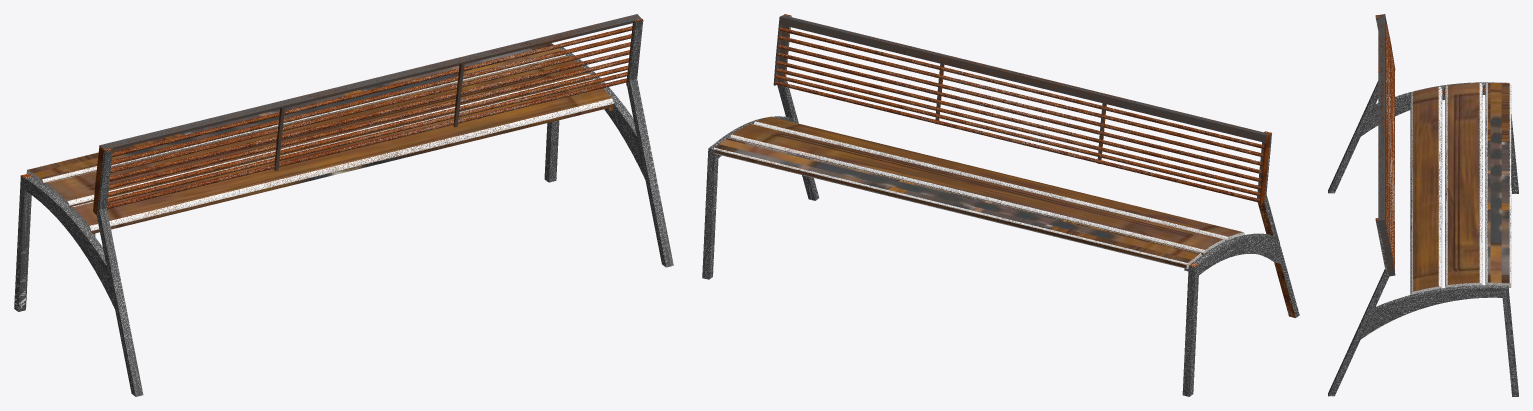
3 views of the same model, side by side, from view 1: azimuth 30°, elevation 25°; view 2: azimuth 150°, elevation 25°; view 3: azimuth 270°, elevation 25° (orthographic). The views are drawn at different scales.
Visible parts, largest first — view 1: mesh12_mesh12-geometry, mesh2_mesh2-geometry, mesh6_mesh6-geometry, mesh3_mesh3-geometry, mesh5_mesh5-geometry, mesh7_mesh7-geometry, mesh4_mesh4-geometry, mesh1_mesh1-geometry; view 2: mesh12_mesh12-geometry, mesh2_mesh2-geometry, mesh3_mesh3-geometry, mesh4_mesh4-geometry, mesh5_mesh5-geometry, mesh7_mesh7-geometry, mesh6_mesh6-geometry; view 3: mesh12_mesh12-geometry, mesh2_mesh2-geometry, mesh7_mesh7-geometry, mesh3_mesh3-geometry, mesh5_mesh5-geometry, mesh4_mesh4-geometry, mesh6_mesh6-geometry.
Boxes of the visible parts, x1,y1,x2,y2 form: mesh12_mesh12-geometry: (14, 18, 673, 396); mesh2_mesh2-geometry: (93, 14, 641, 214); mesh6_mesh6-geometry: (107, 78, 626, 209); mesh3_mesh3-geometry: (111, 34, 631, 164); mesh5_mesh5-geometry: (112, 26, 632, 156); mesh7_mesh7-geometry: (110, 42, 630, 172); mesh4_mesh4-geometry: (109, 50, 629, 180); mesh1_mesh1-geometry: (274, 63, 464, 170); mesh12_mesh12-geometry: (702, 14, 1299, 396); mesh2_mesh2-geometry: (773, 15, 1270, 204); mesh3_mesh3-geometry: (779, 35, 1263, 157); mesh4_mesh4-geometry: (777, 52, 1261, 174); mesh5_mesh5-geometry: (779, 27, 1264, 148); mesh7_mesh7-geometry: (778, 44, 1262, 166); mesh6_mesh6-geometry: (775, 81, 1259, 202); mesh12_mesh12-geometry: (1328, 15, 1518, 396); mesh2_mesh2-geometry: (1378, 14, 1395, 276); mesh7_mesh7-geometry: (1388, 37, 1390, 243); mesh3_mesh3-geometry: (1387, 30, 1388, 235); mesh5_mesh5-geometry: (1386, 24, 1387, 228); mesh4_mesh4-geometry: (1390, 44, 1391, 248); mesh6_mesh6-geometry: (1394, 67, 1394, 270).
Bounding box in the file's own units: 0.872 × 0.3503 × 0.342.
